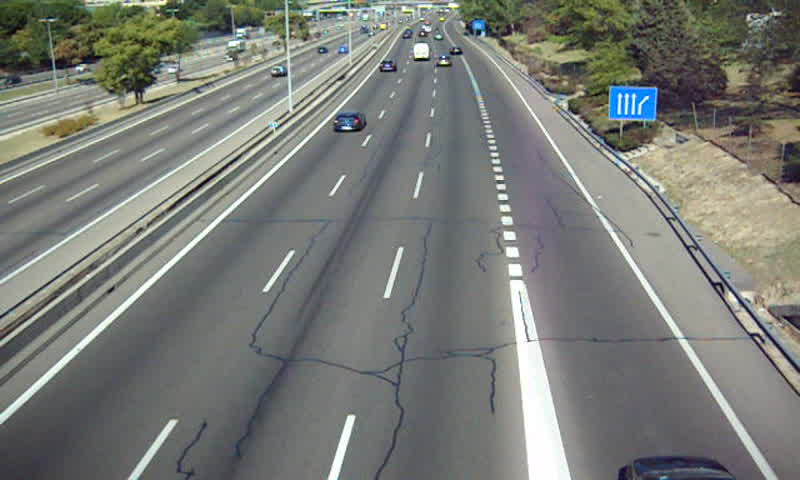car: (331, 111, 366, 134), (436, 54, 453, 69), (378, 60, 398, 72)
van: (413, 42, 431, 62)
